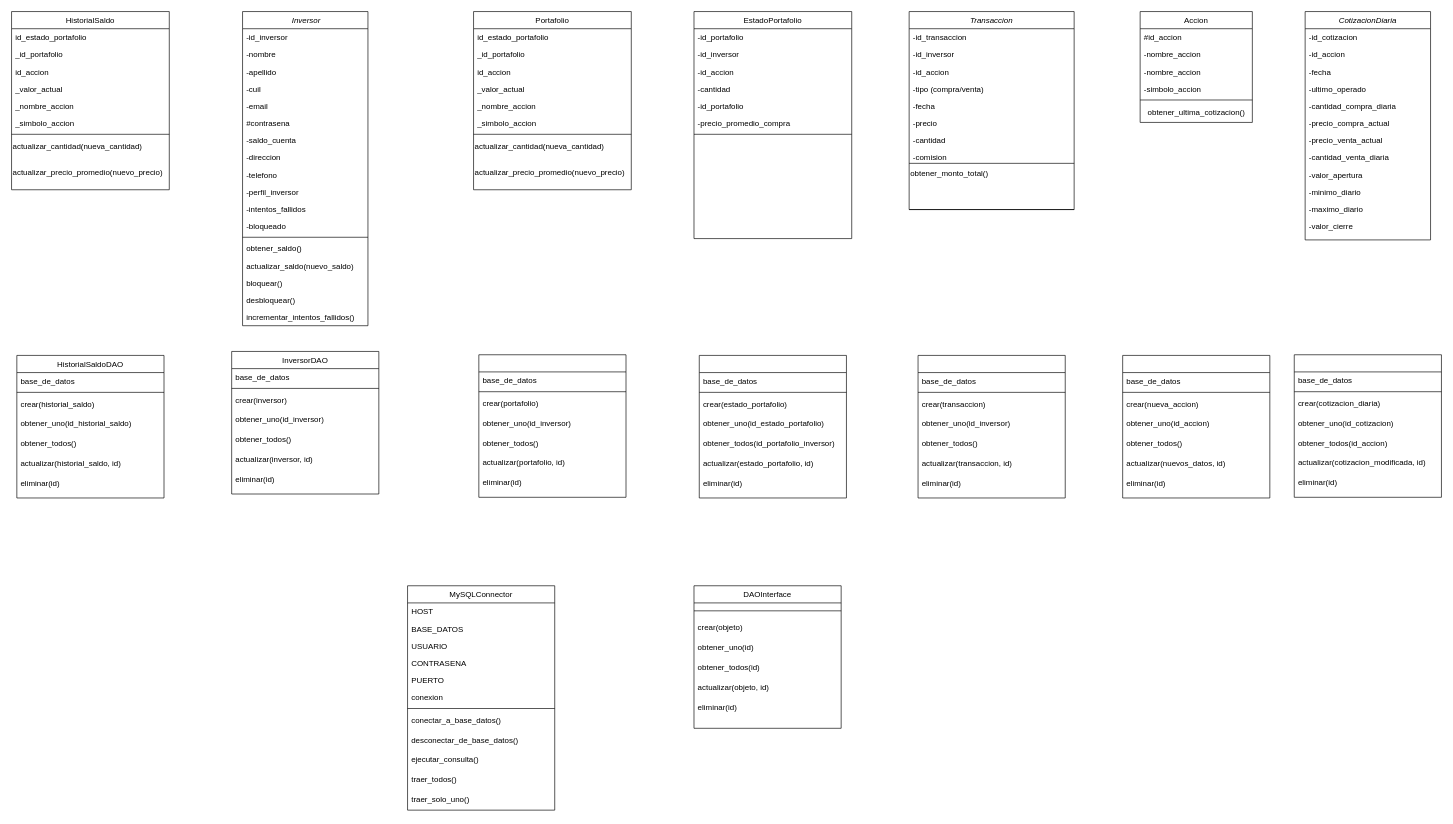
Some shapes in this 1453 by 824 pixel diagram are drawn without their labels. Here are the shapes that lost their labels. From the top down, the box of each, then its label:
(478, 354, 626, 497): PortafolioDAO
(699, 355, 846, 498): EstadoPortafolioDAO
(917, 355, 1065, 498): TransaccionDAO
(1122, 355, 1270, 498): AccionDAO
(1294, 354, 1441, 497): CotizacionDAO
